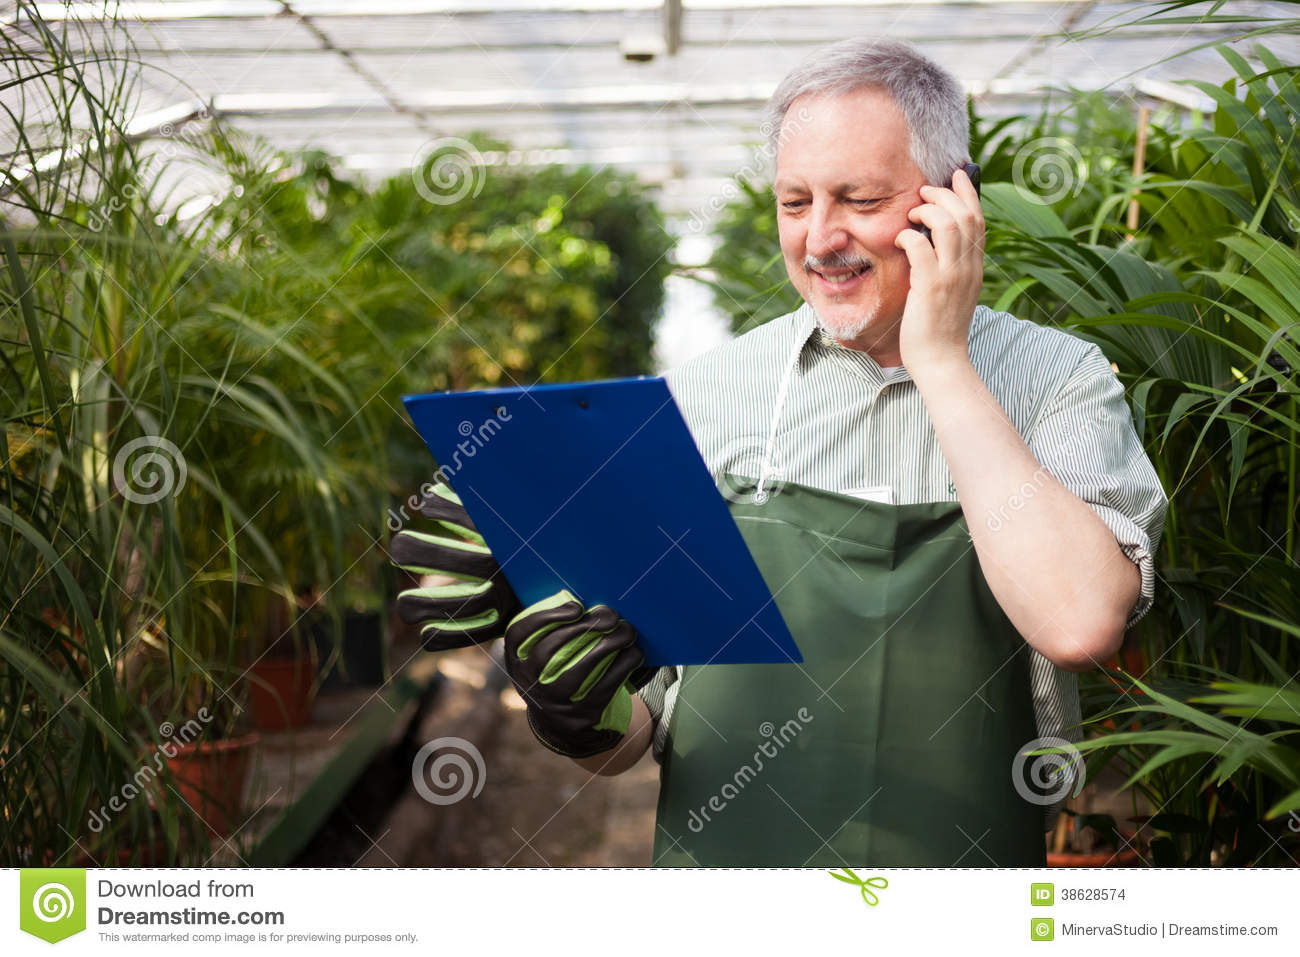talk: (771, 159, 985, 371)
